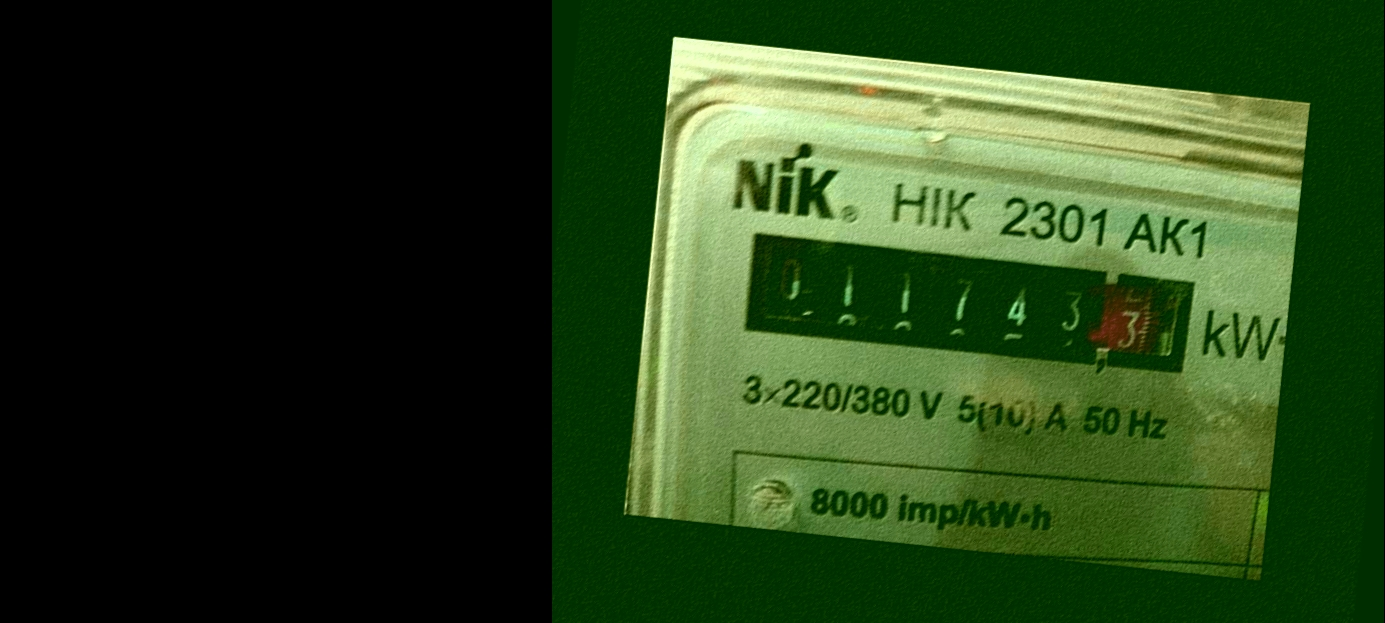0: (775, 254, 808, 304)
1: (894, 268, 920, 318), (839, 262, 861, 312)
3: (1057, 287, 1090, 336), (1115, 307, 1144, 353)
4: (1003, 280, 1036, 331)
7: (949, 275, 978, 326)
screen: (729, 222, 1204, 388)
